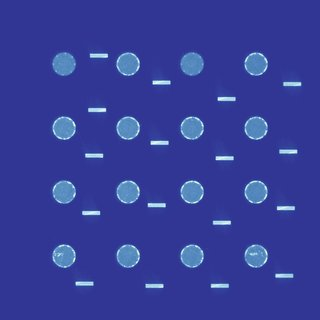overheated: (264, 248, 269, 263), (53, 252, 62, 257), (73, 258, 76, 262), (138, 187, 140, 191), (121, 136, 123, 138), (265, 131, 267, 133), (138, 130, 139, 132)
